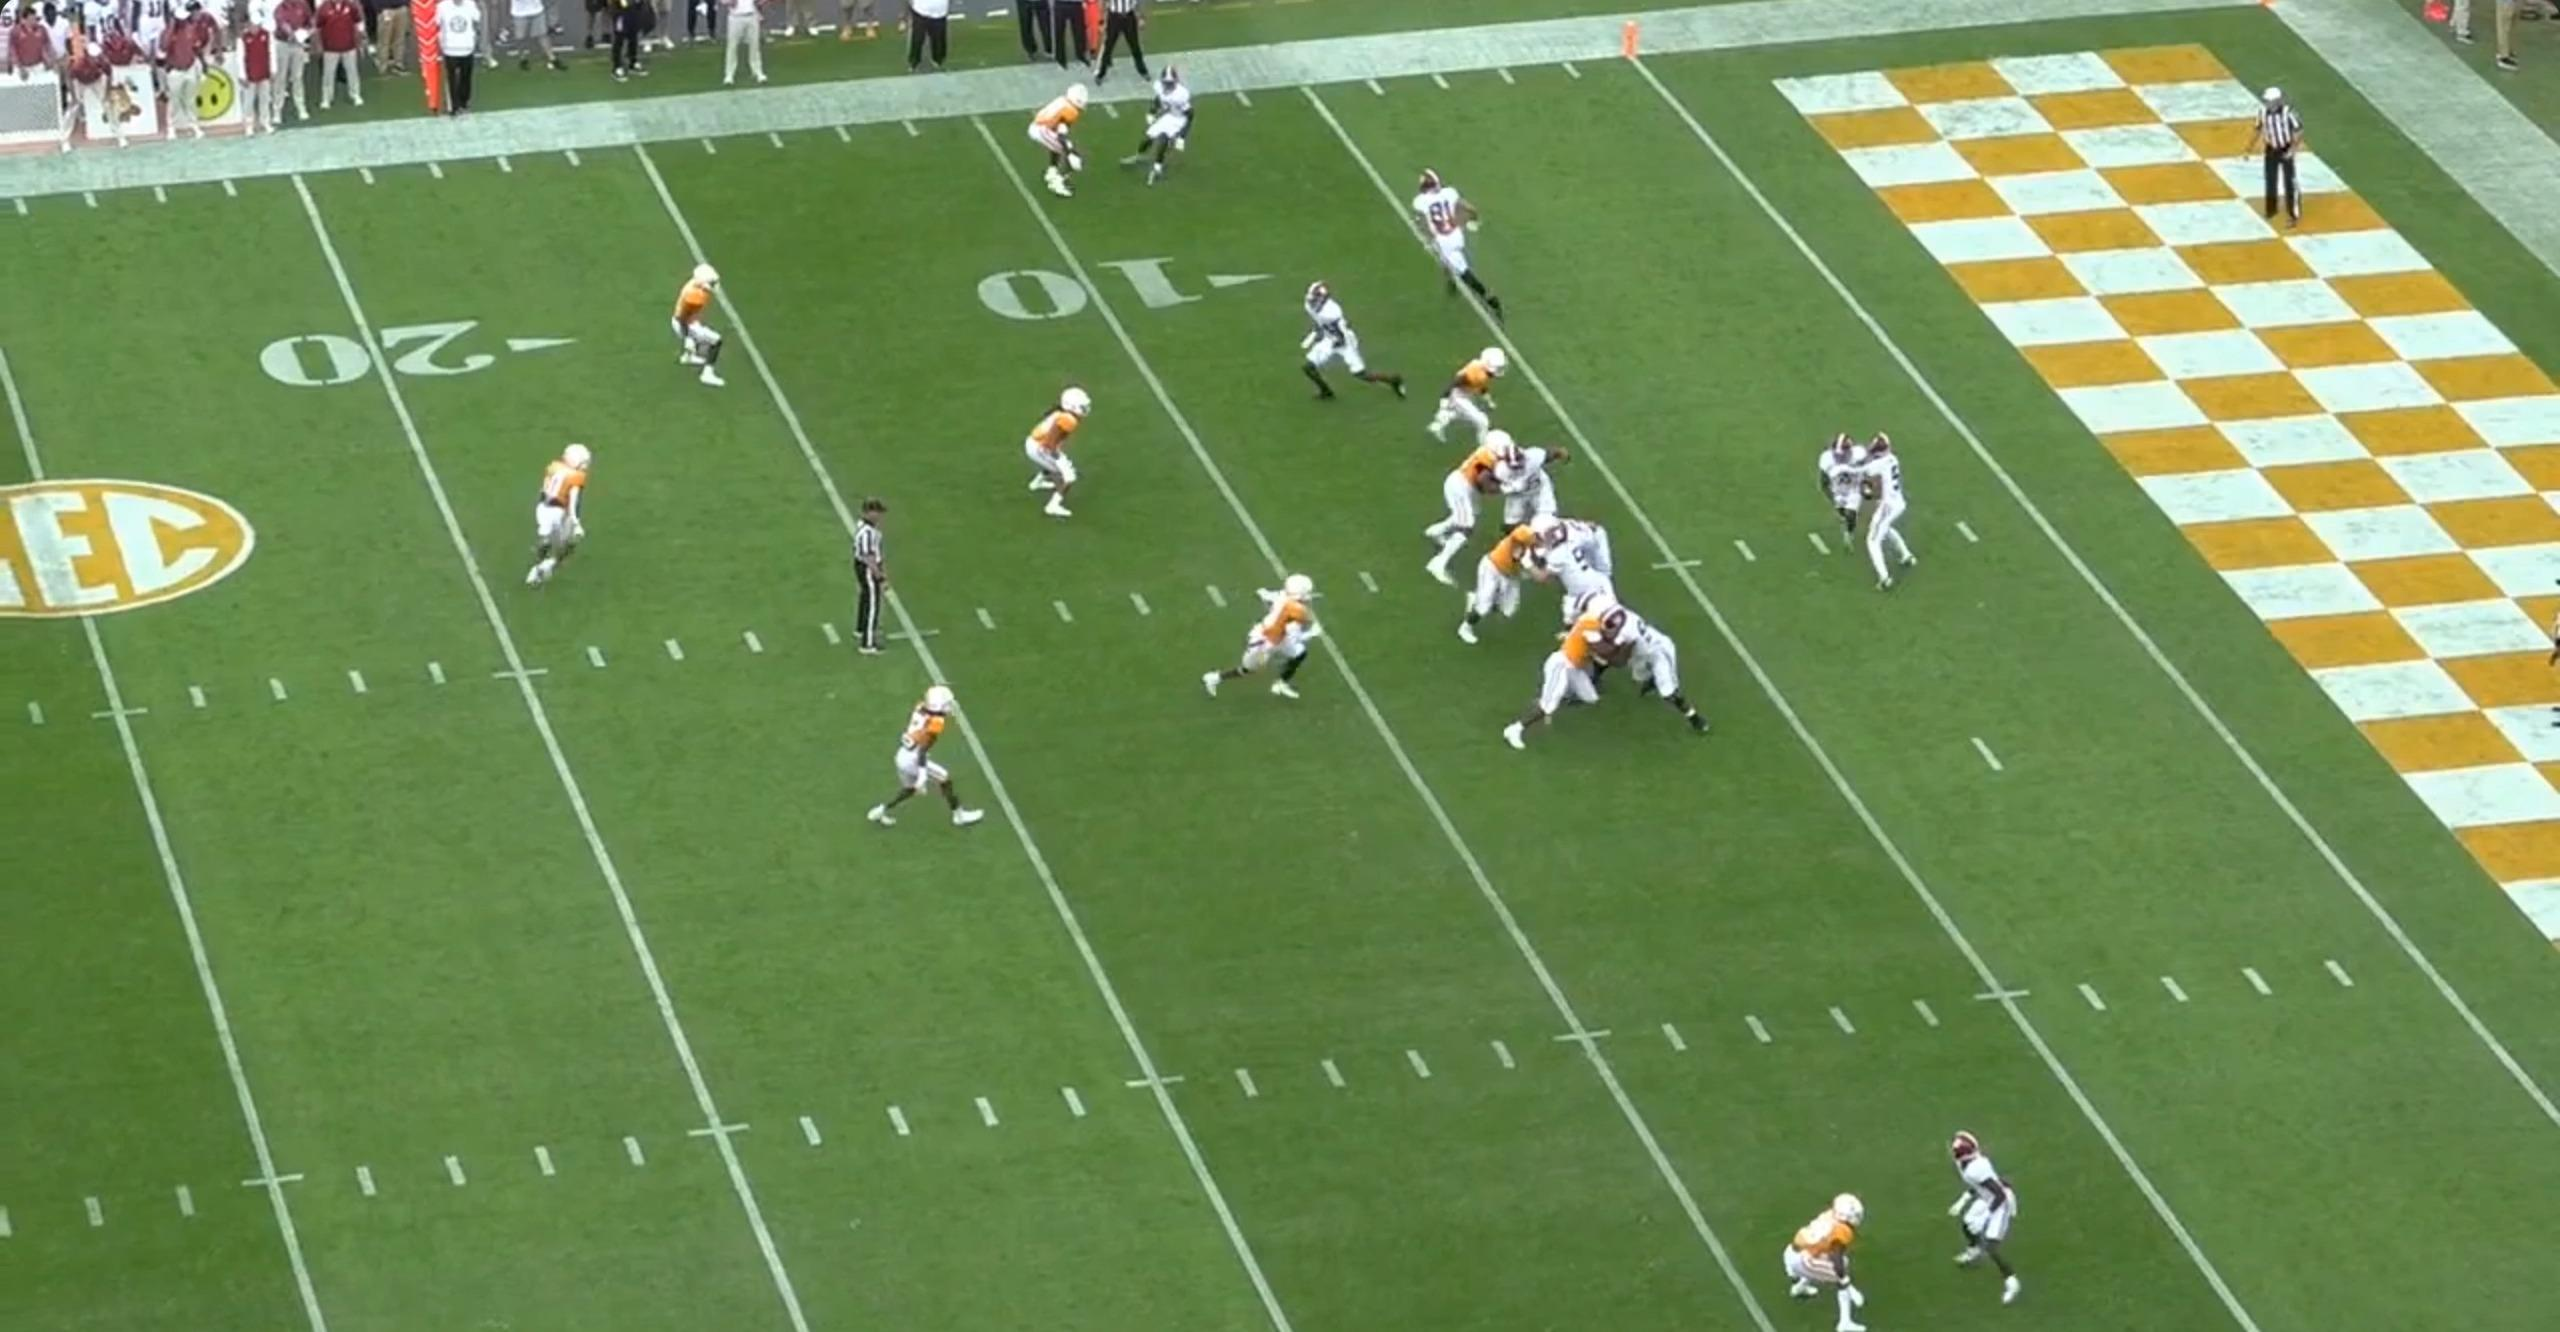defense: (1495, 601, 1622, 758), (1194, 572, 1326, 716), (875, 680, 997, 834), (1410, 433, 1512, 584), (1781, 1183, 1881, 1329), (1451, 509, 1551, 647), (518, 438, 593, 592), (1023, 377, 1095, 523), (1419, 344, 1509, 452), (664, 259, 728, 398), (1019, 81, 1087, 206)
oline: (1586, 596, 1708, 743), (1532, 525, 1619, 640), (1492, 440, 1575, 537), (1522, 513, 1615, 582)
qb: (1854, 428, 1925, 597)
ref: (835, 499, 894, 662), (2257, 85, 2314, 234), (1099, 0, 1161, 85)
skill: (1942, 1126, 2037, 1310), (1295, 276, 1412, 408), (1400, 171, 1500, 325), (1128, 68, 1202, 191), (1801, 425, 1862, 557)
